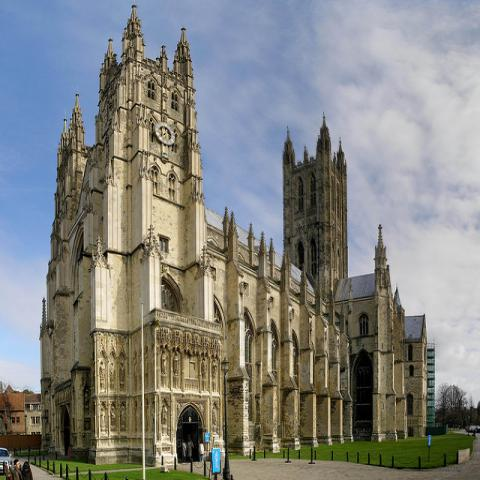car: (0, 448, 12, 474), (470, 426, 478, 432)
